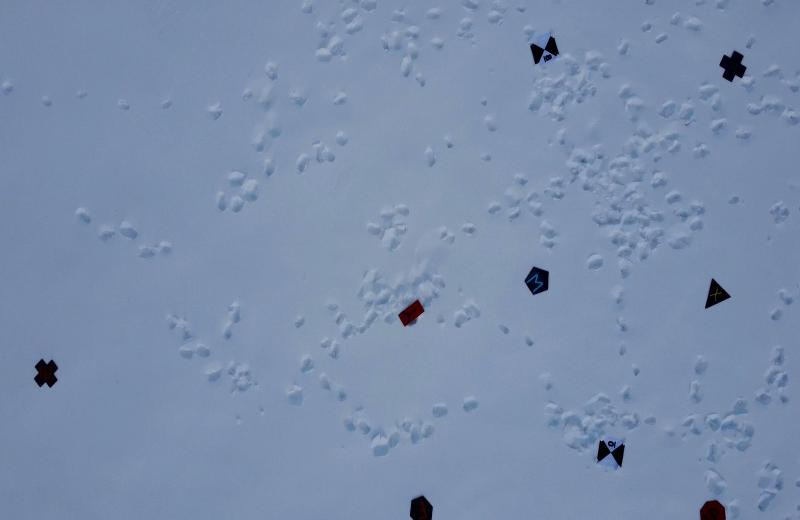Cross: (718, 47, 751, 86), (31, 354, 62, 390)
Hexagon: (404, 490, 440, 520)
Octagon: (697, 495, 728, 520)
Pentagon: (522, 261, 554, 298)
Rectangle: (394, 294, 427, 329)
Triangle: (701, 271, 733, 318)
